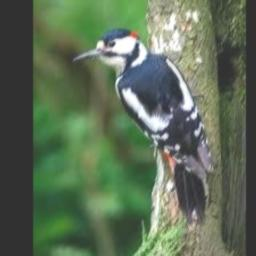Woodpecker: (73, 28, 214, 227)
